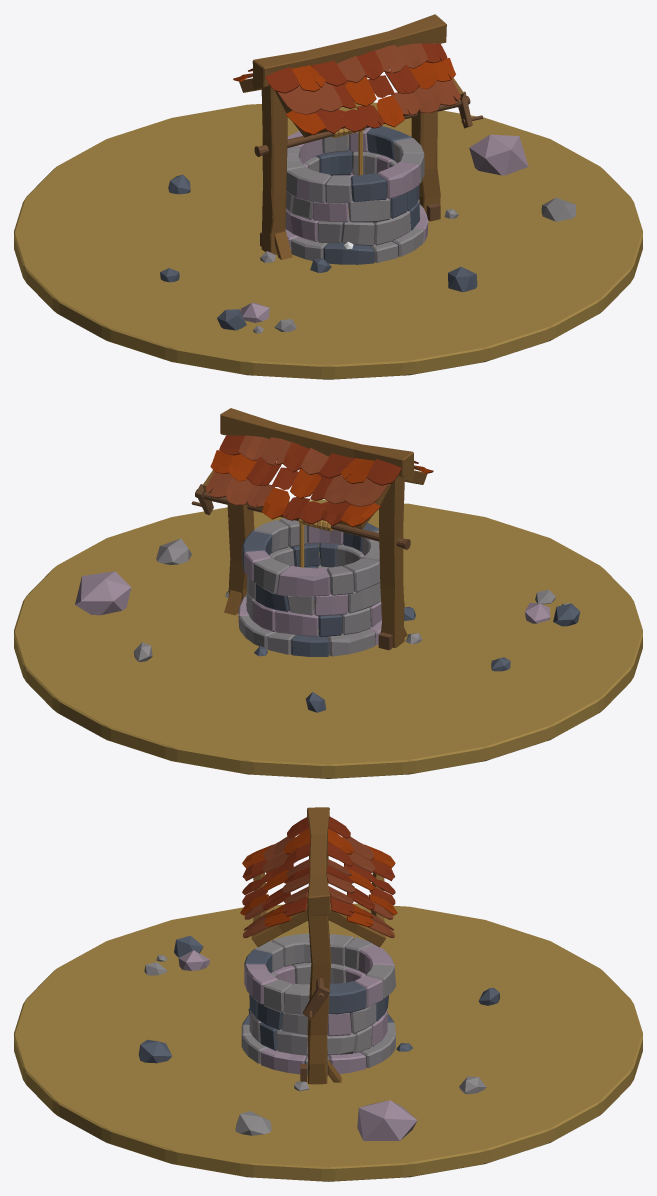
Rendered from Low Poly Well Exercise.fbx.
3 views of the same model, one above another, from view 1: azimuth 30°, elevation 25°; view 2: azimuth 150°, elevation 25°; view 3: azimuth 270°, elevation 25° (orthographic).
Parts seen in each view (by area): view 1: Ground, Roof Tiles, Cube.004, Cube.003, Roof Wood, Base.001, Cube.002, Cube, Rock.014, Base.002, Bar, Rock.004 (+1 smaller); view 2: Ground, Roof Tiles, Cube.004, Cube.003, Base.001, Roof Wood, Cube, Cube.002, Rock.014, Base.002, Bar, Rock.004; view 3: Ground, Roof Tiles, Cube.004, Cube.003, Base.002, Cube, Cube.002, Roof Wood, Rock.014, Roof Wood.002, Rock.004, Rock.003.
Part boxes in pixels (bbox=[...]): Ground: bbox=[14, 102, 642, 379]; Roof Tiles: bbox=[233, 43, 460, 135]; Cube.004: bbox=[286, 126, 424, 203]; Cube.003: bbox=[286, 146, 419, 222]; Roof Wood: bbox=[252, 14, 446, 87]; Base.001: bbox=[261, 85, 287, 254]; Cube.002: bbox=[285, 169, 420, 245]; Cube: bbox=[285, 203, 428, 264]; Rock.014: bbox=[469, 134, 528, 175]; Base.002: bbox=[411, 110, 440, 213]; Bar: bbox=[254, 96, 470, 156]; Rock.004: bbox=[541, 197, 575, 221]; Ground: bbox=[14, 499, 642, 778]; Roof Tiles: bbox=[205, 435, 433, 527]; Cube.004: bbox=[242, 518, 380, 596]; Cube.003: bbox=[247, 542, 380, 615]; Base.001: bbox=[379, 476, 404, 647]; Roof Wood: bbox=[220, 408, 413, 477]; Cube: bbox=[238, 595, 381, 656]; Cube.002: bbox=[246, 560, 381, 636]; Rock.014: bbox=[75, 571, 131, 615]; Base.002: bbox=[227, 500, 254, 600]; Bar: bbox=[195, 489, 410, 549]; Rock.004: bbox=[156, 538, 191, 564]; Ground: bbox=[14, 903, 642, 1181]; Roof Tiles: bbox=[240, 816, 397, 937]; Cube.004: bbox=[244, 933, 395, 1014]; Cube.003: bbox=[249, 962, 388, 1036]; Base.002: bbox=[307, 915, 331, 1084]; Cube: bbox=[241, 1014, 395, 1075]; Cube.002: bbox=[249, 1008, 387, 1055]; Roof Wood: bbox=[307, 807, 330, 915]; Rock.014: bbox=[357, 1100, 417, 1140]; Roof Wood.002: bbox=[251, 905, 385, 947]; Rock.004: bbox=[235, 1111, 271, 1135]; Rock.003: bbox=[138, 1039, 171, 1063].
Size of the model in its own units: 5443 by 1975 by 5443.
